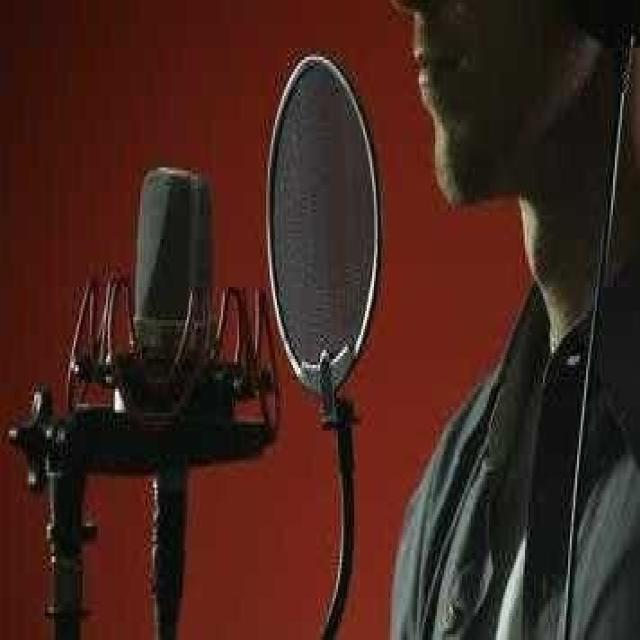microphone: (128, 168, 211, 429)
